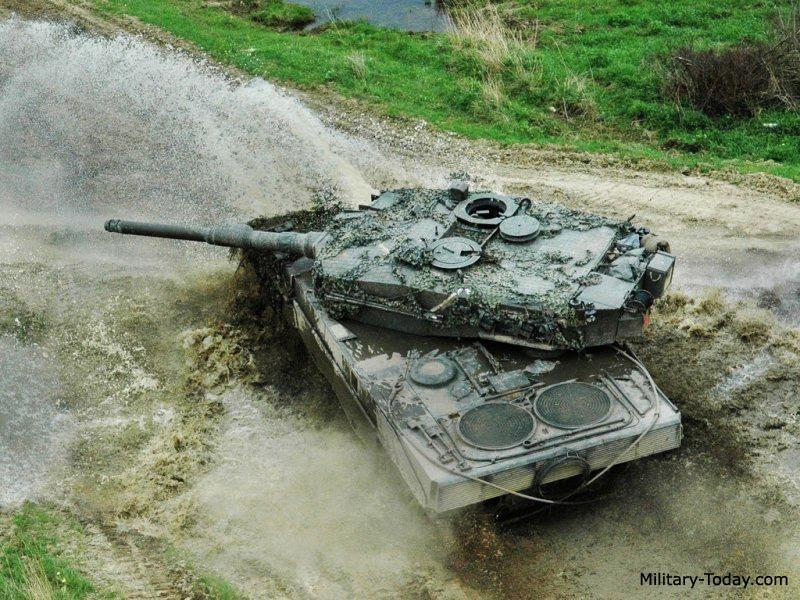tank: (100, 177, 690, 535)
